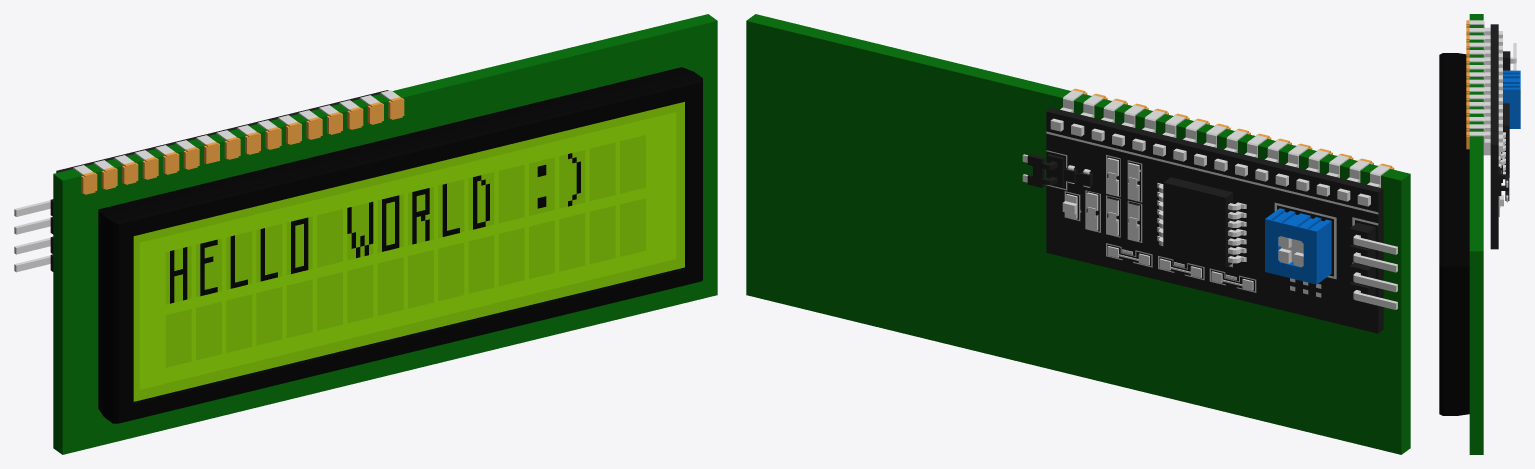
File: LCD16x2_I2C.glb
The picture shows the model from 3 angles, left to right: view 1: azimuth 30°, elevation 25°; view 2: azimuth 150°, elevation 25°; view 3: azimuth 270°, elevation 25°; orthographic projection. The views are drawn at different scales.
Parts seen in each view (by area): view 1: LCD 16 x 2 (I2C), Cube; view 2: LCD 16 x 2 (I2C), Cube; view 3: LCD 16 x 2 (I2C), Cube.
Boxes of the visible parts, <box> form: LCD 16 x 2 (I2C): <box>53,14,717,454</box>; Cube: <box>14,90,388,272</box>; LCD 16 x 2 (I2C): <box>746,14,1410,454</box>; Cube: <box>1022,108,1397,333</box>; LCD 16 x 2 (I2C): <box>1439,14,1502,454</box>; Cube: <box>1490,24,1520,249</box>.
Size of the model in its own units: 1.45 by 0.5674 by 0.2038.
